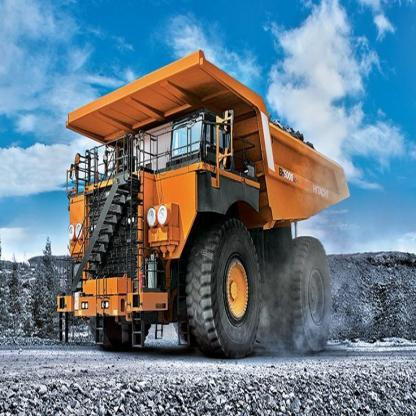dump_truck: (53, 43, 344, 358)
